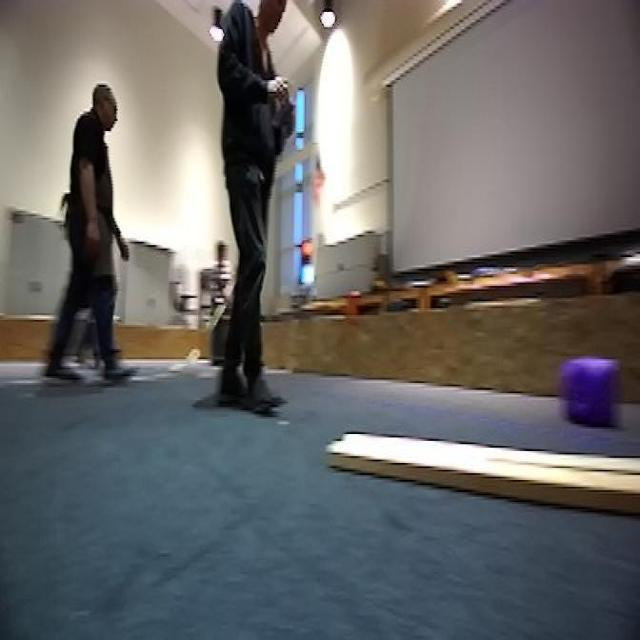frc_cube: (559, 354, 619, 432)
